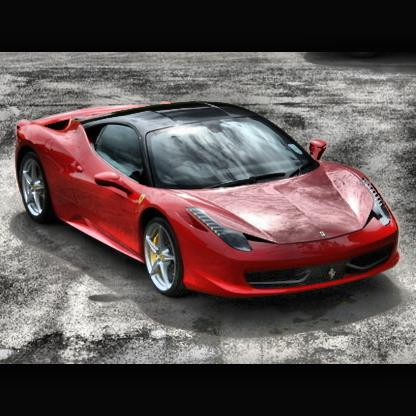Ferrari 458 Italia Coupe 2012: (15, 94, 404, 309)
